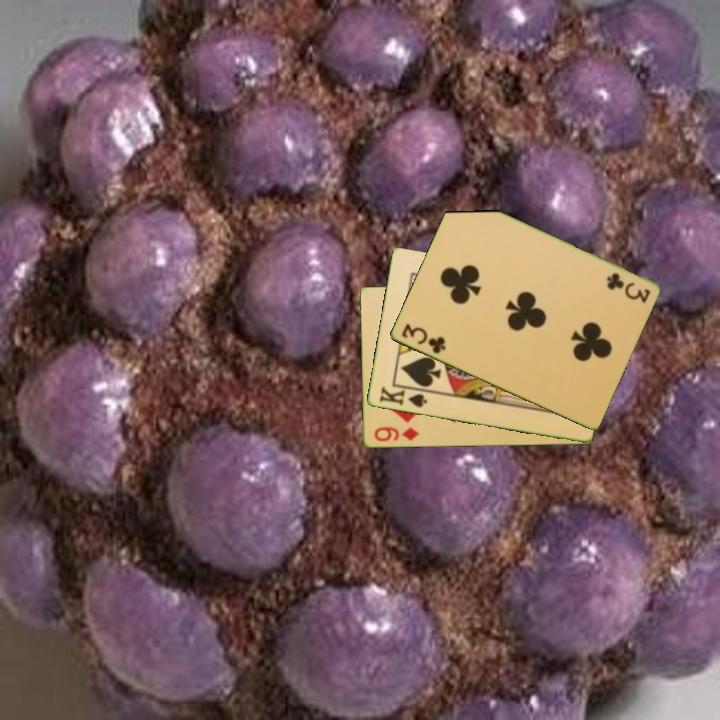3c: (398, 320, 448, 357), (602, 269, 653, 305)
9d: (370, 423, 422, 445)
Ks: (376, 383, 430, 411)
